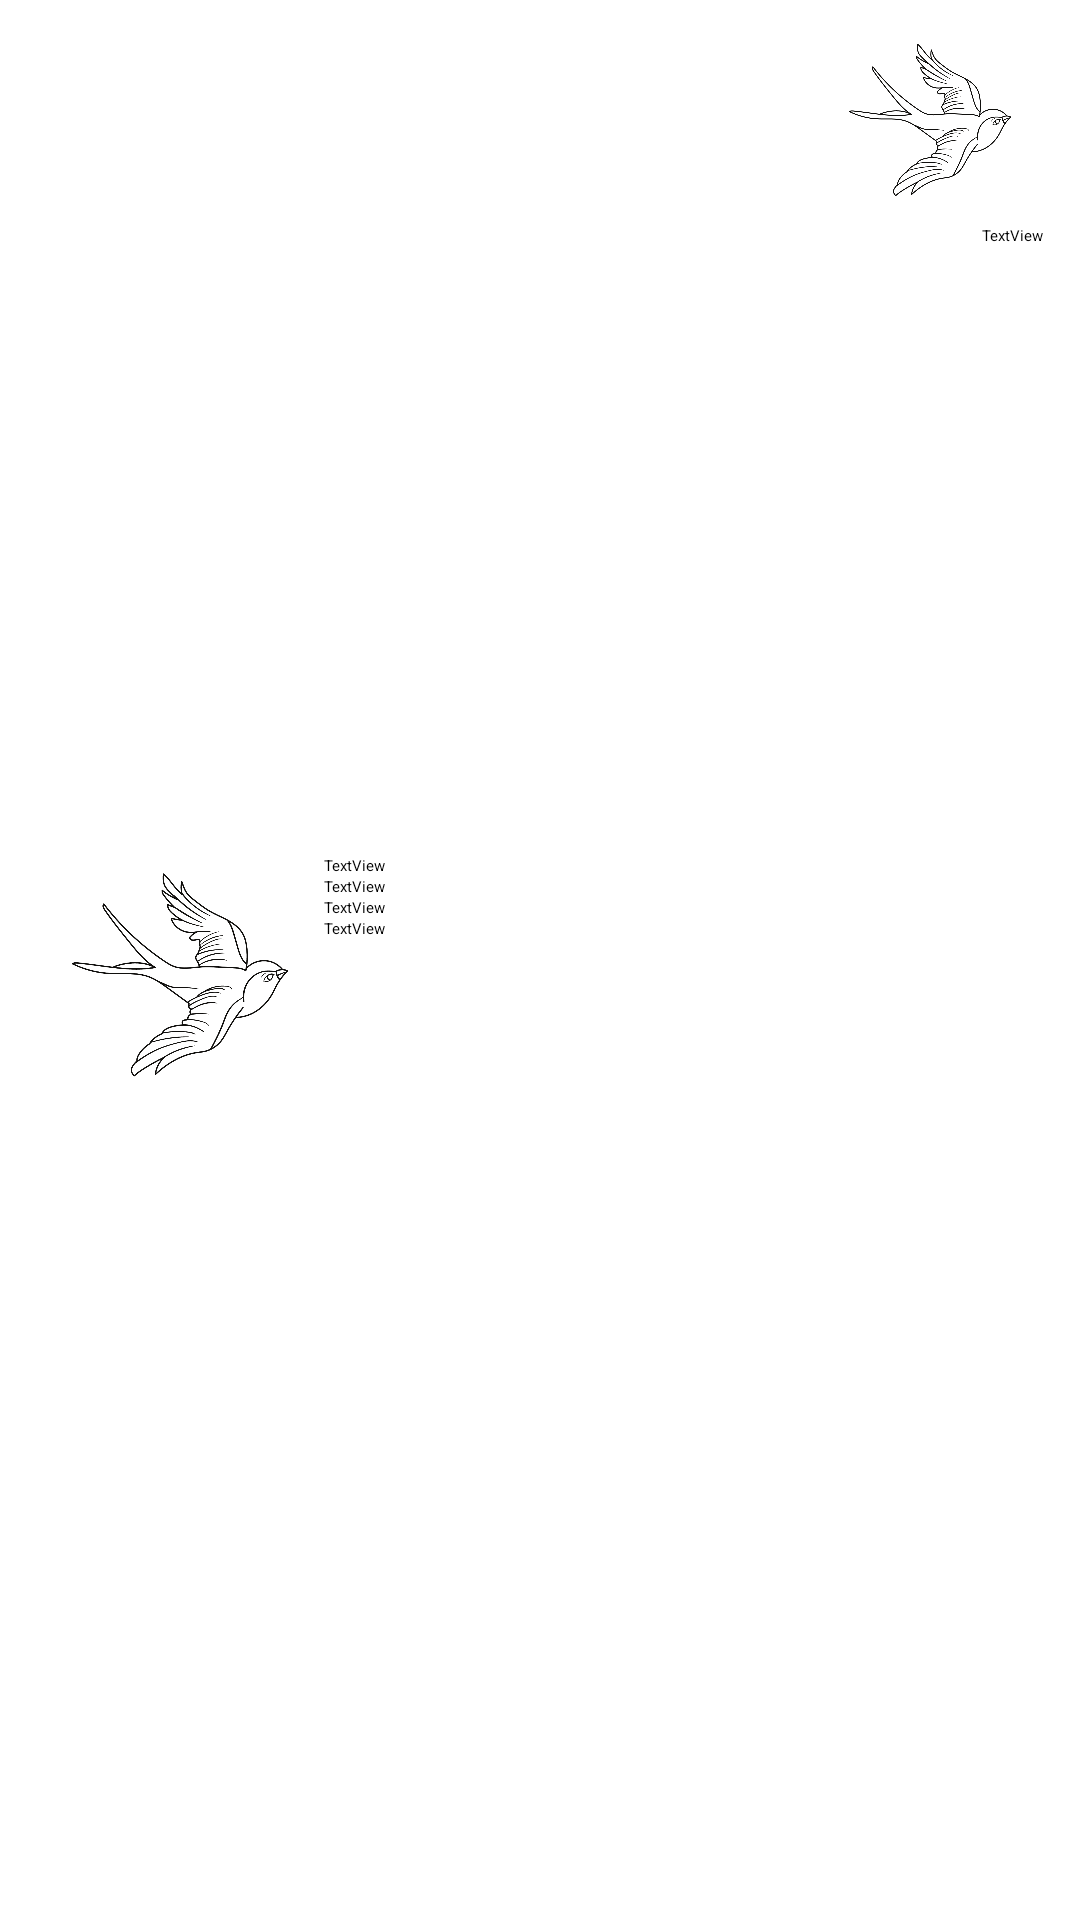

Named icons in this screenshot (1080w x 1920h) and their bounding boxes, {"x1": x1, "y1": y1, "x2": x2, "y2": y2}:
birds: {"x1": 849, "y1": 44, "x2": 1011, "y2": 196}, {"x1": 72, "y1": 873, "x2": 288, "y2": 1077}
